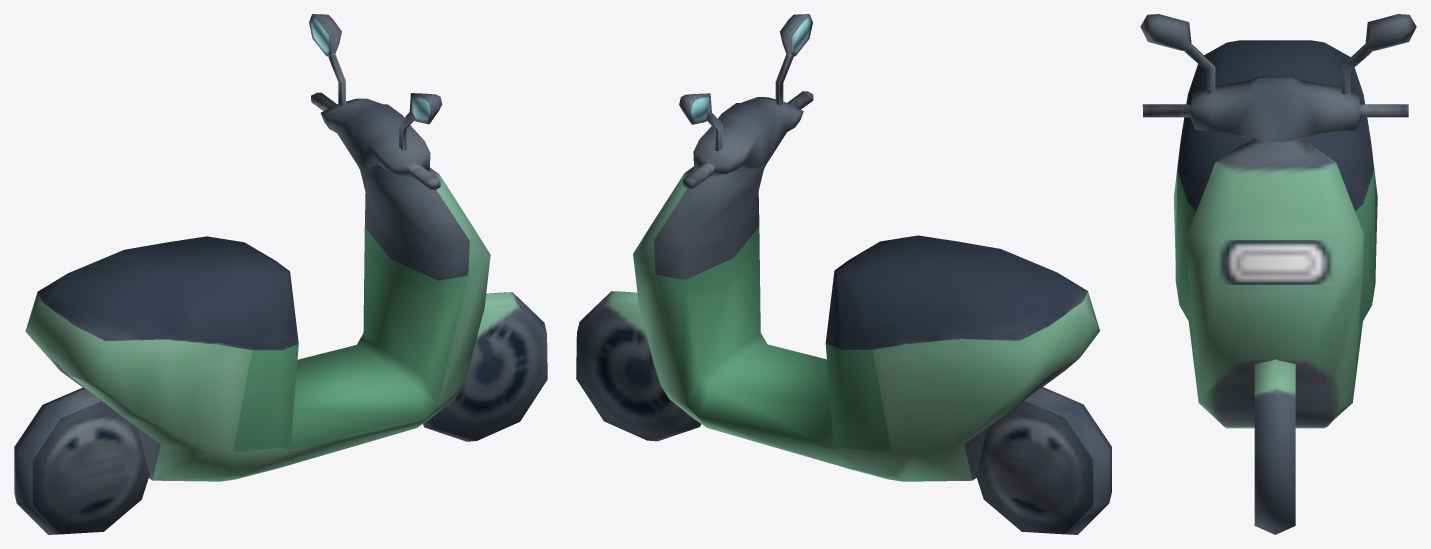
Rendered from Darkgreen_scooter.glb.
3 renders of one model, left to right at view 1: azimuth 30°, elevation 25°; view 2: azimuth 150°, elevation 25°; view 3: azimuth 270°, elevation 25°, orthographic. The views are drawn at different scales.
Visible parts, largest first — view 1: DarkGreen_scooter.001; view 2: DarkGreen_scooter.001; view 3: DarkGreen_scooter.001.
Part boxes in pixels (<box>): DarkGreen_scooter.001: <box>14,14,547,534</box>; DarkGreen_scooter.001: <box>576,14,1111,534</box>; DarkGreen_scooter.001: <box>1140,14,1416,534</box>.
Bounding box in the file's own units: 1.01 × 0.7454 × 0.411.
Materials: 1 (1 with a texture image).
